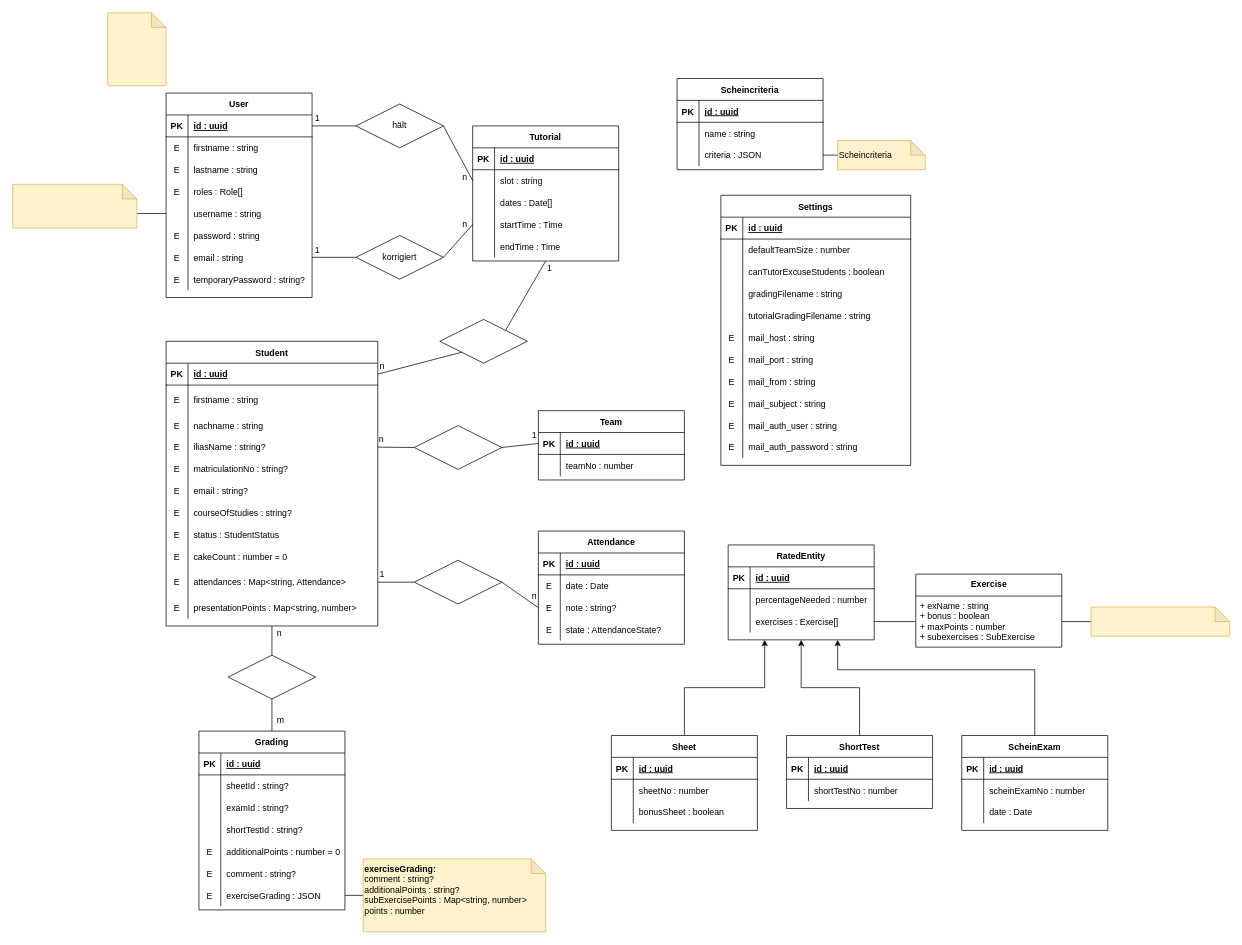
The diagram is 1242 pixels wide and 945 high, and some of its shapes have lost their labels. Each missing label, with the centre of its shape:
bekommt: point (271, 676)
besucht: point (483, 341)
E: Encrypted: point (136, 49)
hat: point (458, 582)
ist Teil von: point (458, 447)
Kann der username auch verschlüsselt werden?: point (74, 206)
SubExercise = Omit<Exercise, "subexercises">: point (1160, 621)
